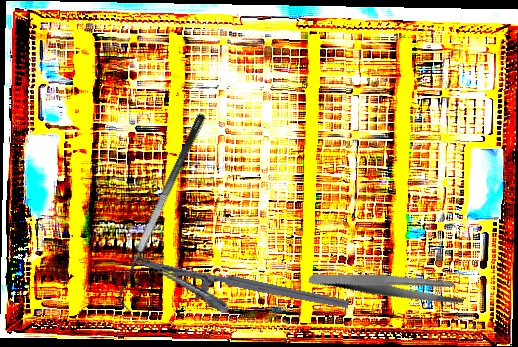Dressing Forceps: (307, 233, 469, 338)
Needle Holder: (130, 253, 350, 340)
Spatula Surgical: (105, 112, 223, 313)
